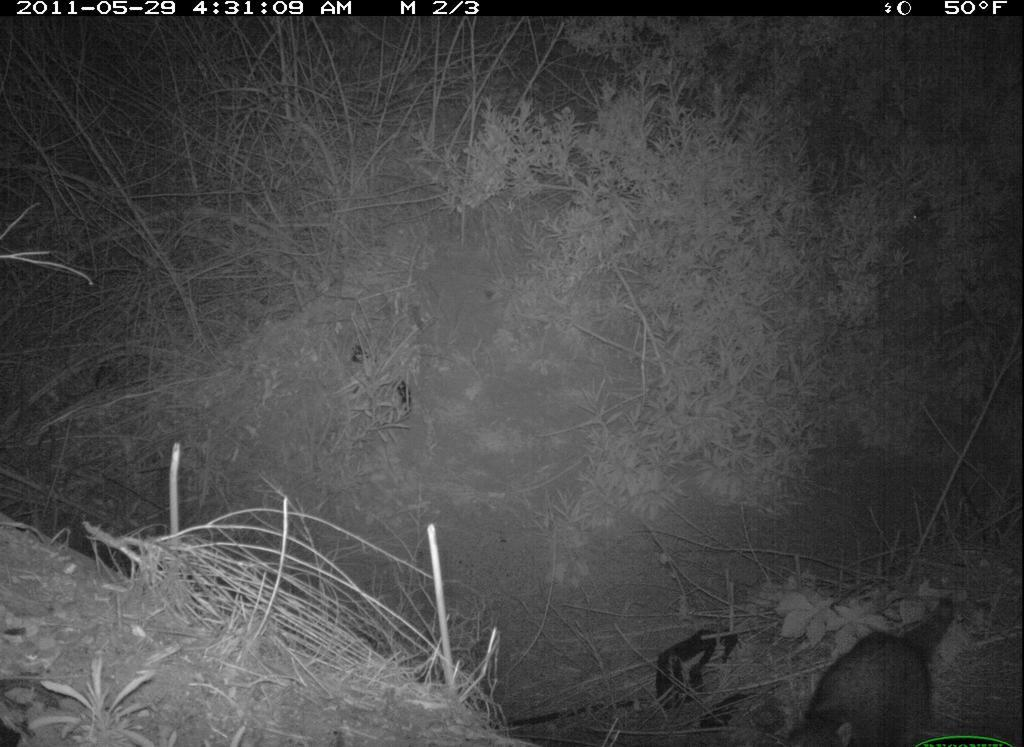raccoon: (769, 591, 971, 747)
